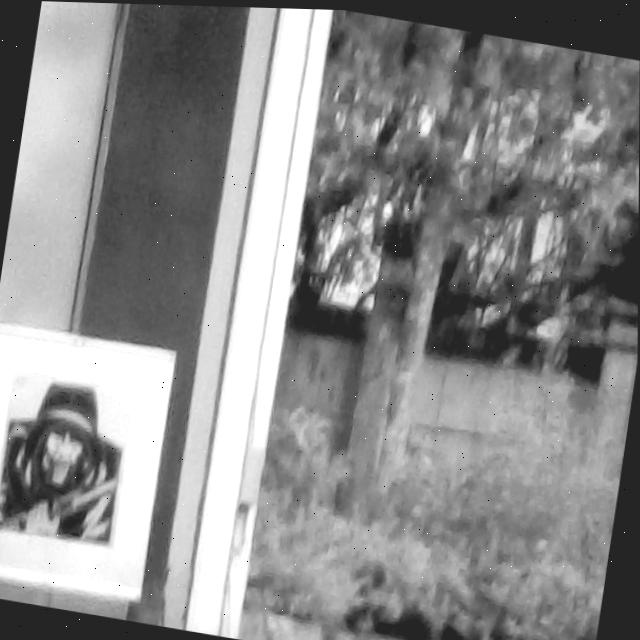bia: (0, 372, 139, 543)
